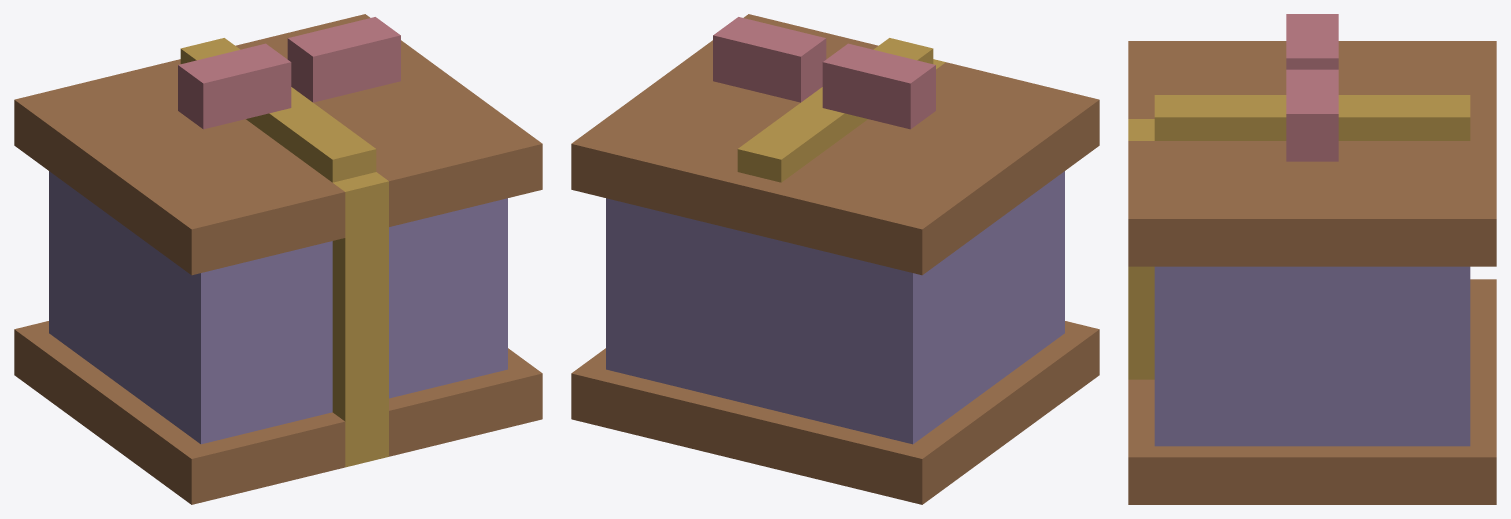
The model's file is social-20.glb.
3 views of the same model, side by side, from view 1: azimuth 30°, elevation 25°; view 2: azimuth 150°, elevation 25°; view 3: azimuth 270°, elevation 25° (orthographic). The views are drawn at different scales.
Visible parts, largest first — view 1: Gift parcel; view 2: Gift parcel; view 3: Gift parcel.
Boxes of the visible parts, x1=… form: Gift parcel: x1=14, y1=14, x2=542, y2=504; Gift parcel: x1=571, y1=14, x2=1099, y2=504; Gift parcel: x1=1128, y1=14, x2=1496, y2=504.
Bounding box in the file's own units: 1.28 × 1.2 × 1.12.
